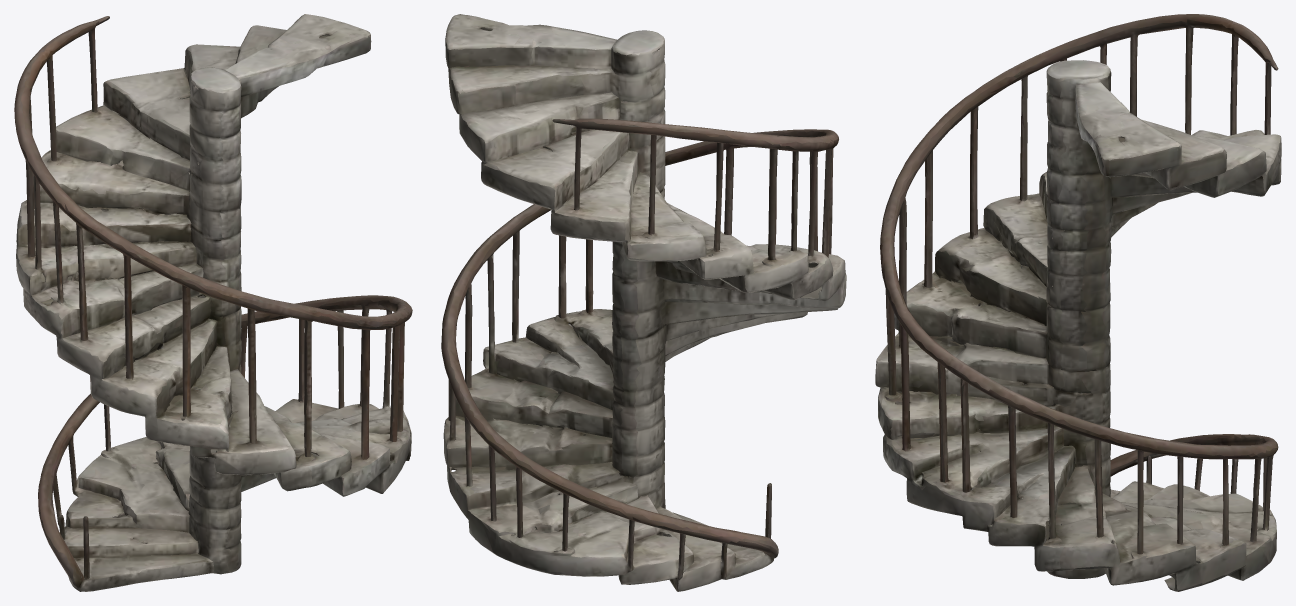
File: obj_basement_stairs.glb
3 renders of one model, left to right at view 1: azimuth 30°, elevation 25°; view 2: azimuth 150°, elevation 25°; view 3: azimuth 270°, elevation 25°, orthographic. The views are drawn at different scales.
Parts seen in each view (by area): view 1: geometry_0; view 2: geometry_0; view 3: geometry_0.
Boxes of the visible parts, <box> form: geometry_0: <box>14,14,412,591</box>; geometry_0: <box>441,14,846,591</box>; geometry_0: <box>875,14,1281,591</box>.
Size of the model in its own units: 2.27 by 3 by 2.2.
1 material, 1 textured.
